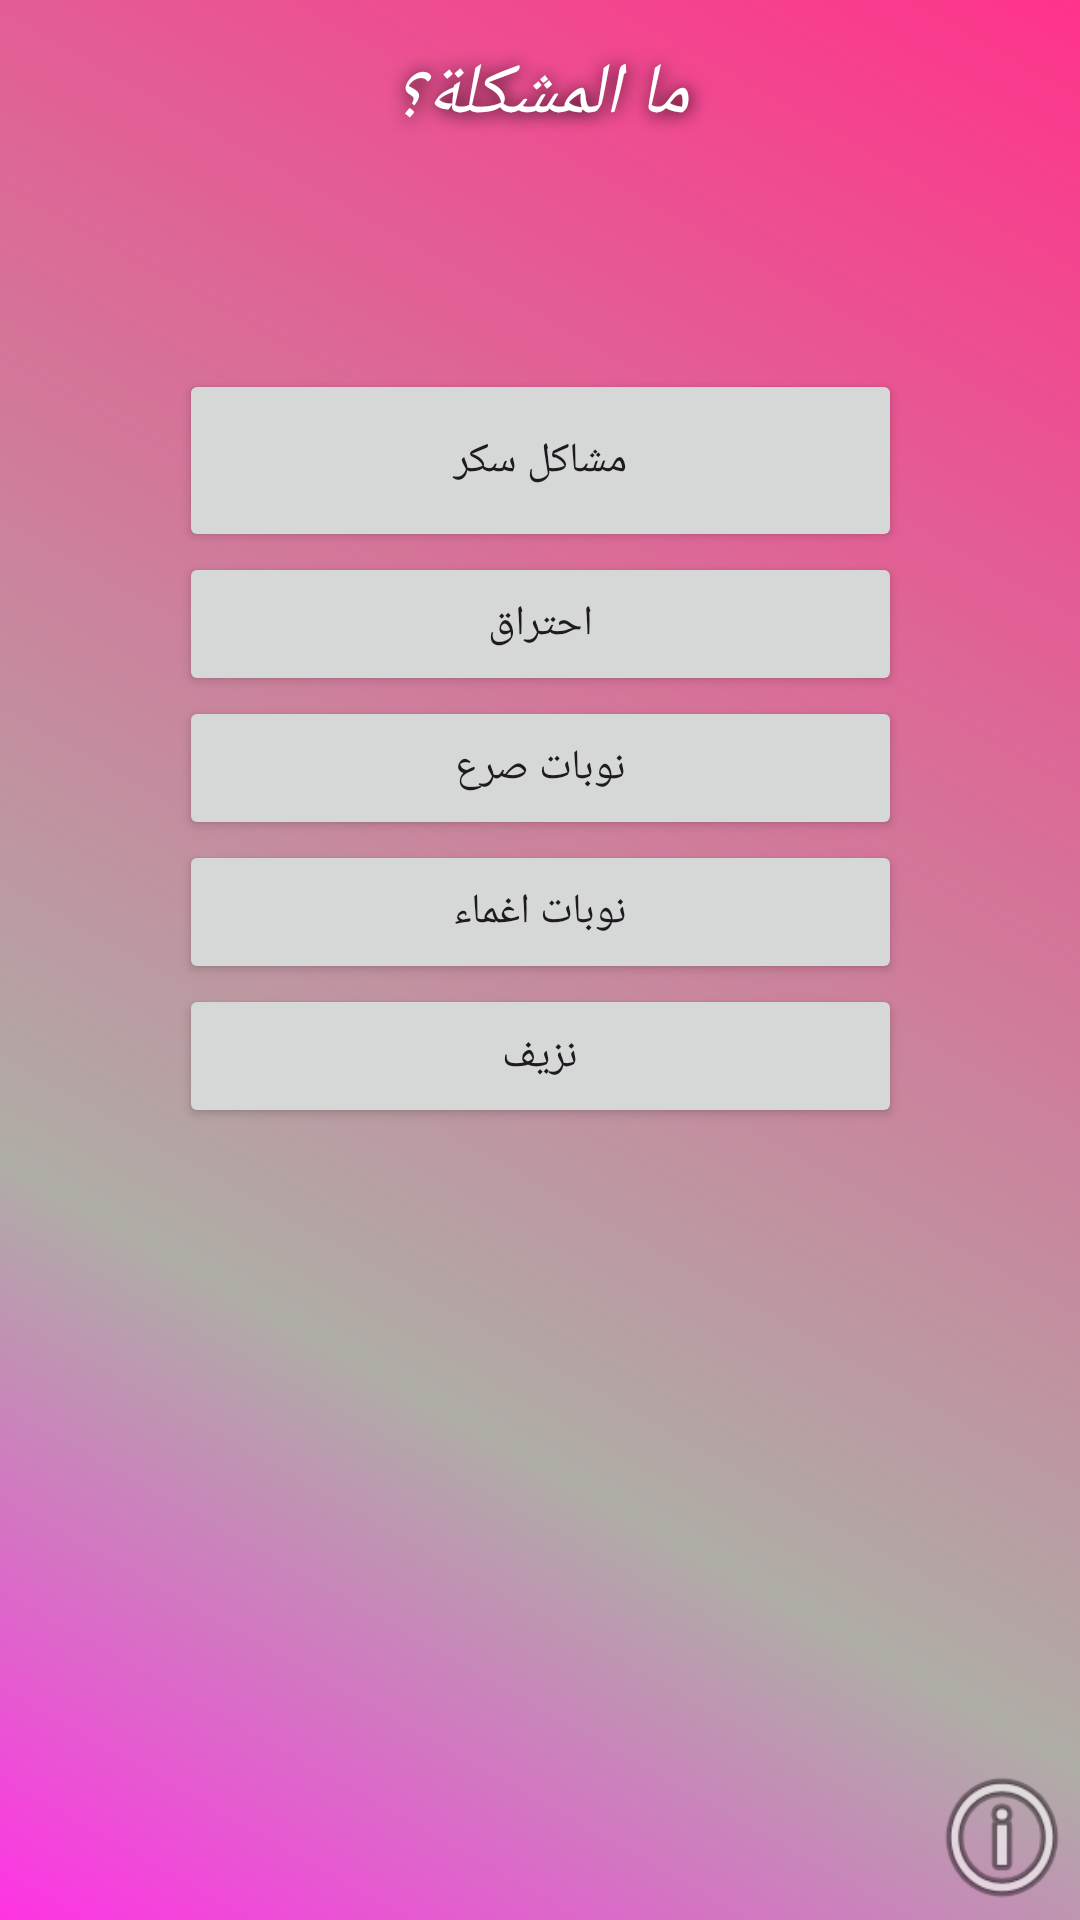

Screen size 1080px×1920px. Icon name, then its center in pixels as point (x, y):
info details: point (1001, 1838)
